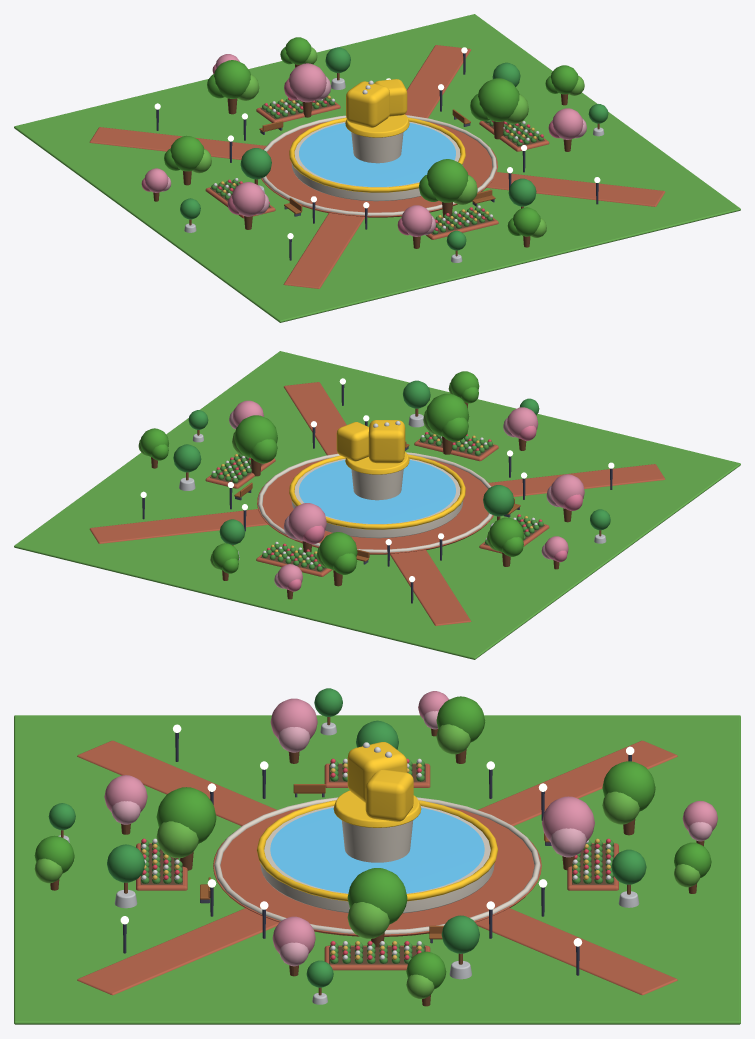
File: centre.glb
3 renders of one model, top to bottom at view 1: azimuth 30°, elevation 25°; view 2: azimuth 150°, elevation 25°; view 3: azimuth 270°, elevation 25°, orthographic. The views are drawn at different scales.
Parts seen in each view (by area): view 1: Cube; view 2: Cube; view 3: Cube.
Boxes of the visible parts, box(x1,y1,x2,y2) form: Cube: box(14, 14, 740, 322); Cube: box(14, 351, 740, 659); Cube: box(14, 688, 740, 1024).
Size of the model in its own units: 5.9 by 1.06 by 5.9.
